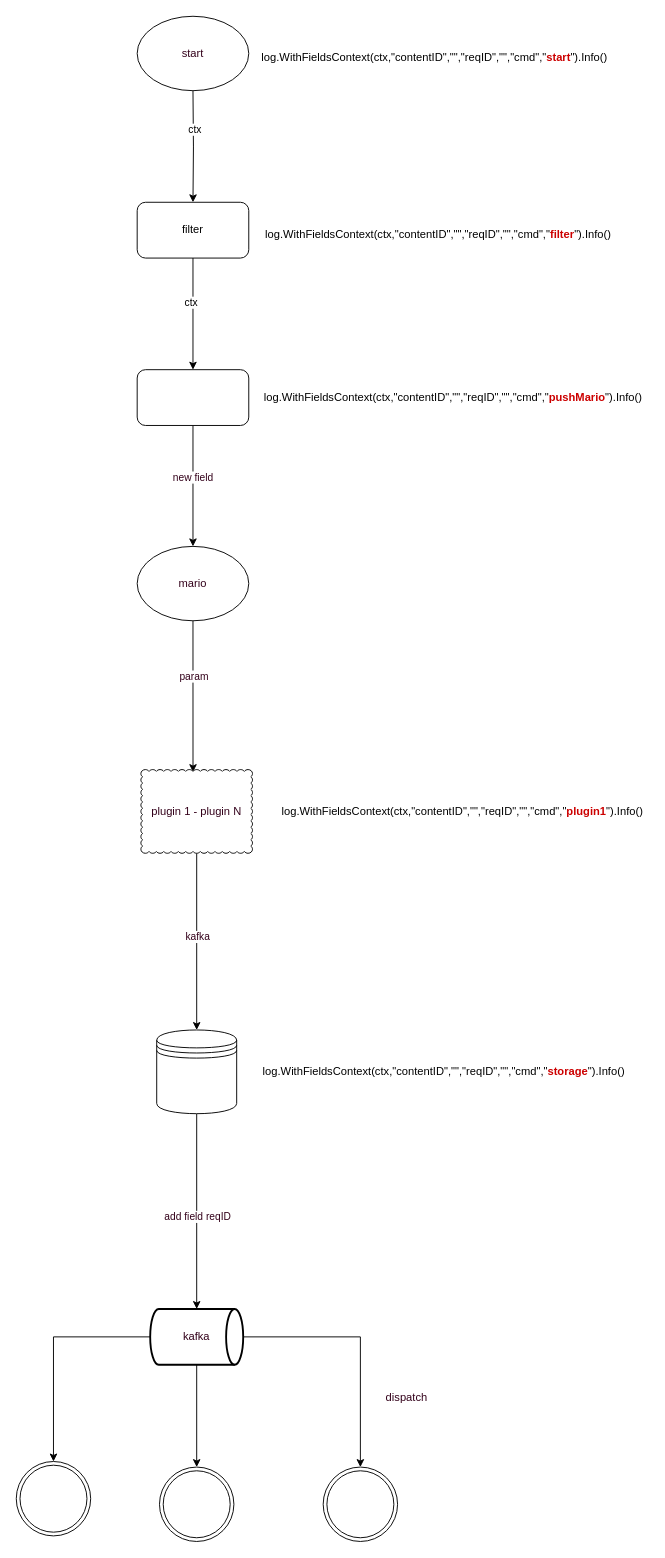
Image size: 665x1558. Some labels were removed from this diagram. Each missing label, with the centre of its shape:
"content_storage" goes at point (196, 1071).
"push mario" goes at point (192, 397).
